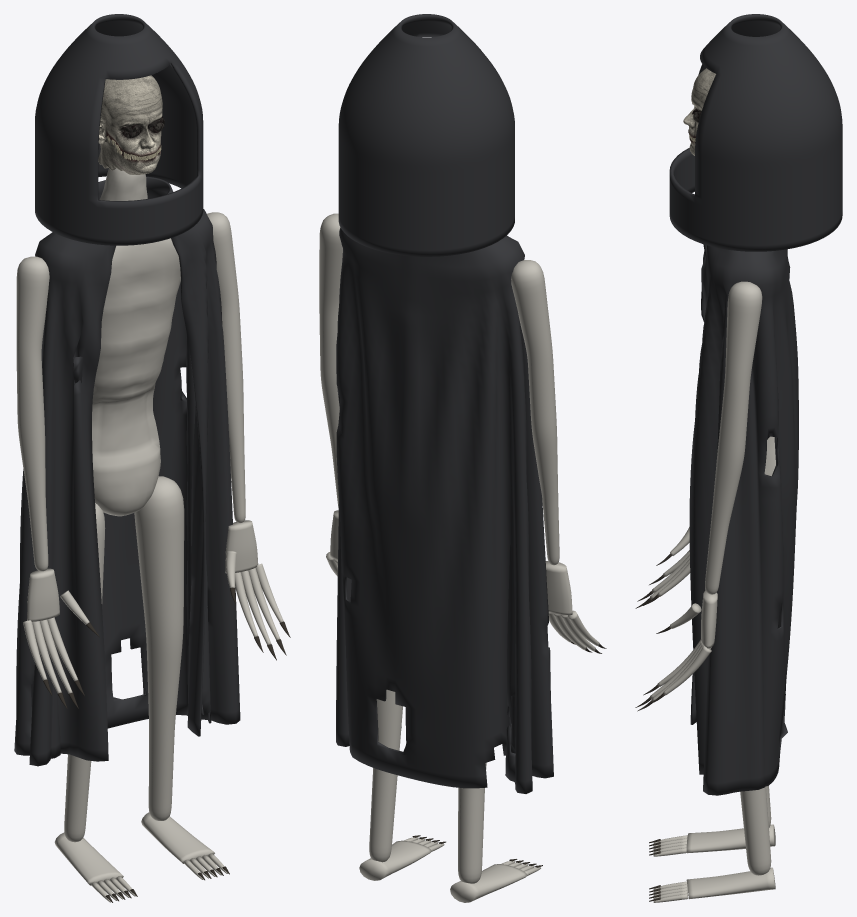
Rendered from visitor-hooded.glb.
3 renders of one model, left to right at view 1: azimuth 30°, elevation 25°; view 2: azimuth 150°, elevation 25°; view 3: azimuth 270°, elevation 25°, orthographic. The views are drawn at different scales.
Parts seen in each view (by area): view 1: Torso, hood, LegR, ArmL, ArmR, Head, LegL; view 2: Torso, hood, ArmL, LegR, ArmR, LegL; view 3: Torso, hood, ArmR, LegR, LegL, ArmL, Head.
Part boxes in pixels (x1,y1,x2,y2): Torso: (14, 168, 240, 766); hood: (35, 14, 203, 245); LegR: (134, 476, 229, 880); ArmL: (16, 256, 99, 708); ArmR: (207, 212, 290, 660); Head: (98, 75, 164, 174); LegL: (54, 503, 137, 902); Torso: (336, 227, 553, 793); hood: (338, 14, 514, 256); ArmL: (511, 260, 606, 653); LegR: (359, 689, 445, 880); ArmR: (319, 213, 342, 576); LegL: (450, 762, 542, 902); Torso: (689, 244, 798, 795); hood: (669, 14, 842, 251); ArmR: (635, 281, 762, 711); LegR: (649, 786, 775, 902); LegL: (649, 785, 775, 856); ArmL: (635, 527, 690, 608); Head: (683, 68, 715, 155).
Bounding box in the file's own units: 0.6289 × 2.06 × 0.4552.
7 materials, 1 textured.
